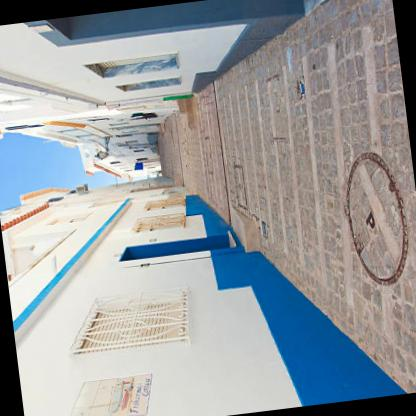manholes: (328, 127, 416, 296)
